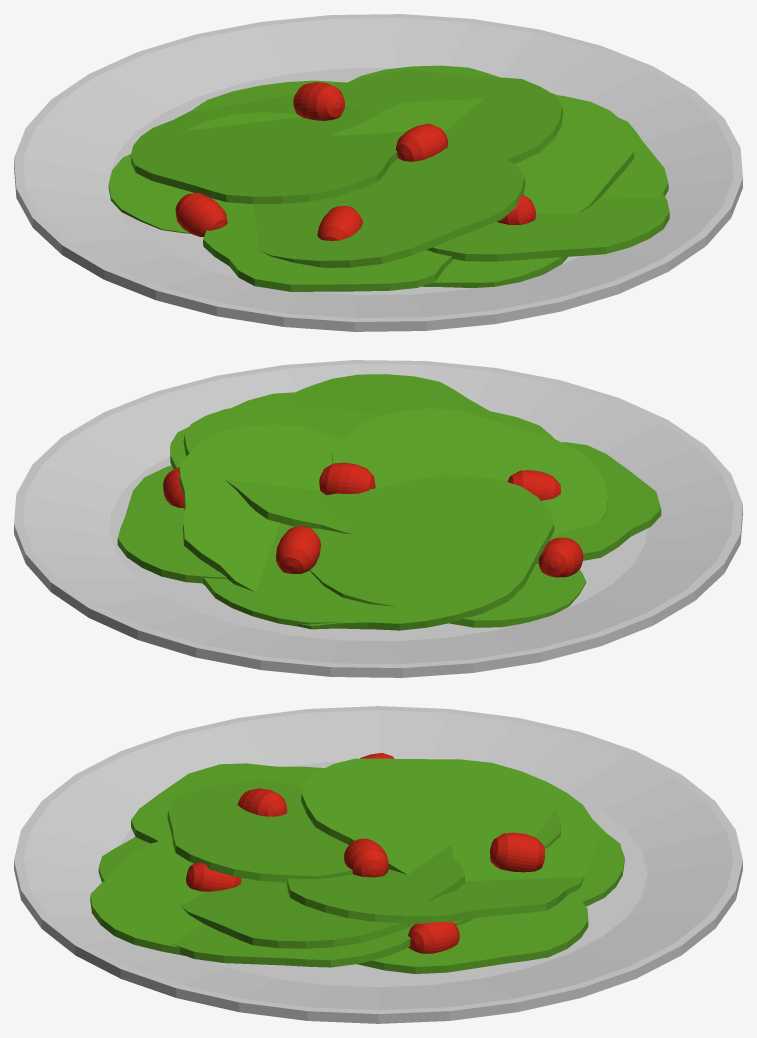
The model's file is salad.fbx.
3 renders of one model, top to bottom at view 1: azimuth 30°, elevation 25°; view 2: azimuth 150°, elevation 25°; view 3: azimuth 270°, elevation 25°, orthographic.
Visible parts, largest first — view 1: Salad; view 2: Salad; view 3: Salad.
Boxes of the visible parts, x1,y1,x2,y2 form: Salad: (14, 14, 742, 331); Salad: (14, 360, 742, 677); Salad: (14, 706, 742, 1023).
Size of the model in its own units: 23.76 by 23.76 by 2.43.
